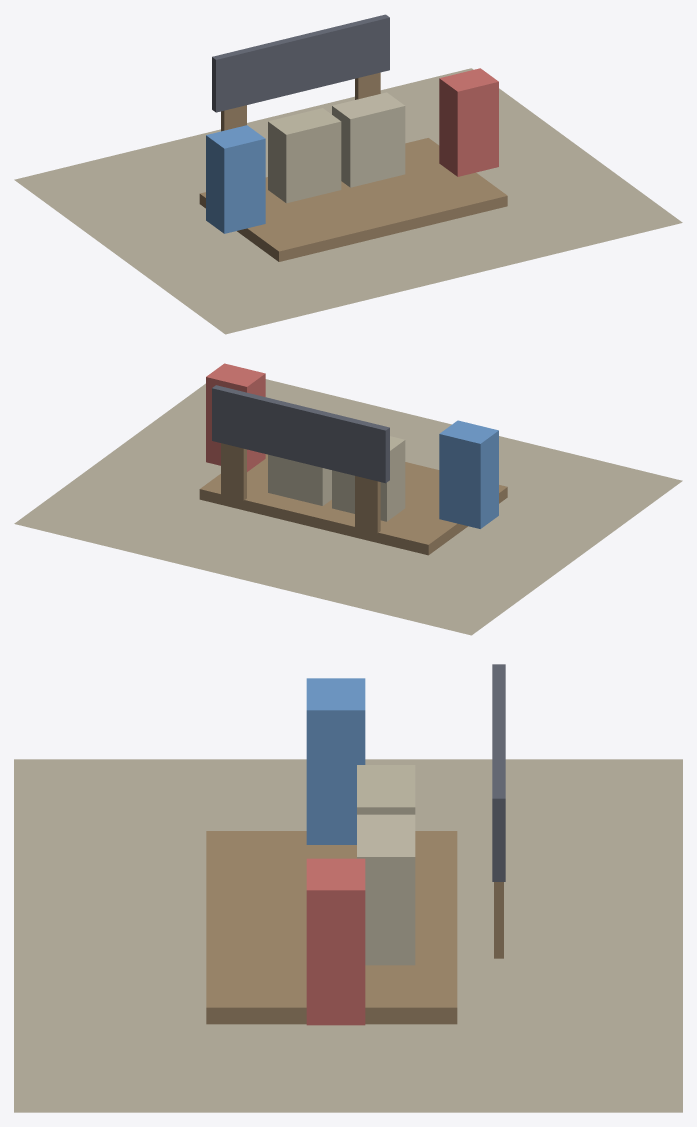
Rendered from world.glb.
The picture shows the model from 3 angles, top to bottom: view 1: azimuth 30°, elevation 25°; view 2: azimuth 150°, elevation 25°; view 3: azimuth 270°, elevation 25°; orthographic projection. The views are drawn at different scales.
Parts seen in each view (by area): view 1: word_of_day_opaque_mesh; view 2: word_of_day_opaque_mesh; view 3: word_of_day_opaque_mesh.
Part boxes in pixels (x1,y1,x2,y2): word_of_day_opaque_mesh: [14, 14, 682, 334]; word_of_day_opaque_mesh: [14, 363, 682, 635]; word_of_day_opaque_mesh: [14, 664, 682, 1112].
Size of the model in its own units: 10 by 2.7 by 8.
